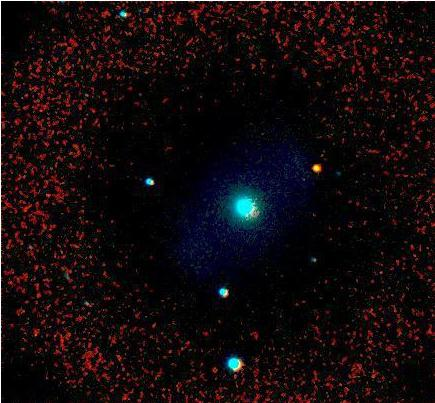star: (302, 153, 332, 183)
